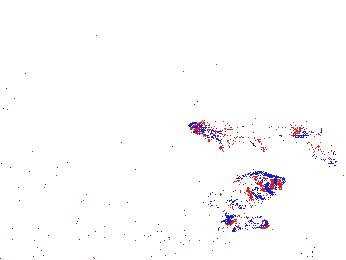X-ray fish: (202, 172, 286, 212)
red belly glassfish: (218, 209, 270, 233)
redtail glassfish: (219, 114, 296, 147), (290, 118, 337, 169), (183, 118, 256, 150)
